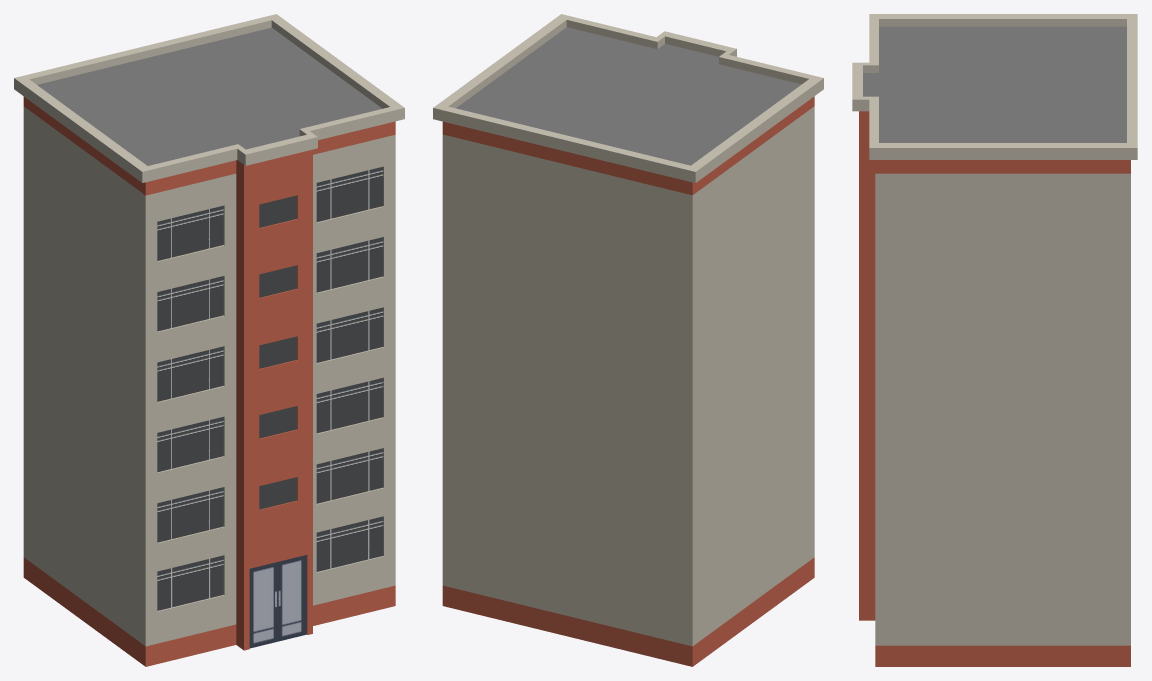
The model's file is Building Sky_big_color02.glb.
3 views of the same model, side by side, from view 1: azimuth 30°, elevation 25°; view 2: azimuth 150°, elevation 25°; view 3: azimuth 270°, elevation 25° (orthographic). The views are drawn at different scales.
Visible parts, largest first — view 1: Building Sky_big_color02; view 2: Building Sky_big_color02; view 3: Building Sky_big_color02.
Boxes of the visible parts, x1,y1,x2,y2 form: Building Sky_big_color02: (14, 14, 404, 666); Building Sky_big_color02: (433, 14, 823, 666); Building Sky_big_color02: (852, 14, 1137, 666).
Bounding box in the file's own units: 1.09 × 1.98 × 0.9837.
1 material, 1 textured.
